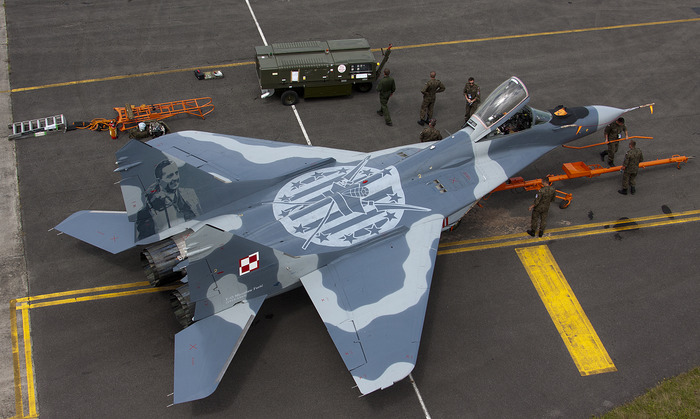Mig-29: (92, 87, 627, 319)
